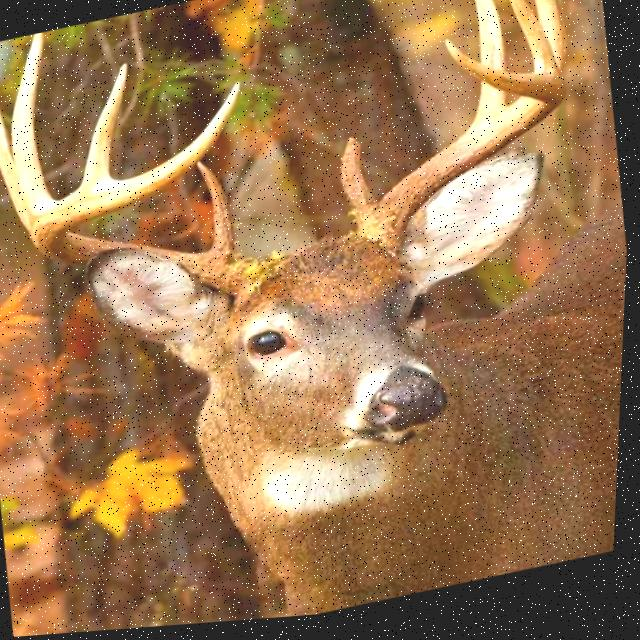L-F: (31, 84, 287, 311)
L-G1: (198, 165, 242, 258)
L-G3: (13, 33, 58, 223)
L-G4: (80, 65, 129, 190)
R-F: (348, 46, 569, 263)
R-G1: (341, 142, 381, 234)
R-G4: (507, 0, 564, 87)
